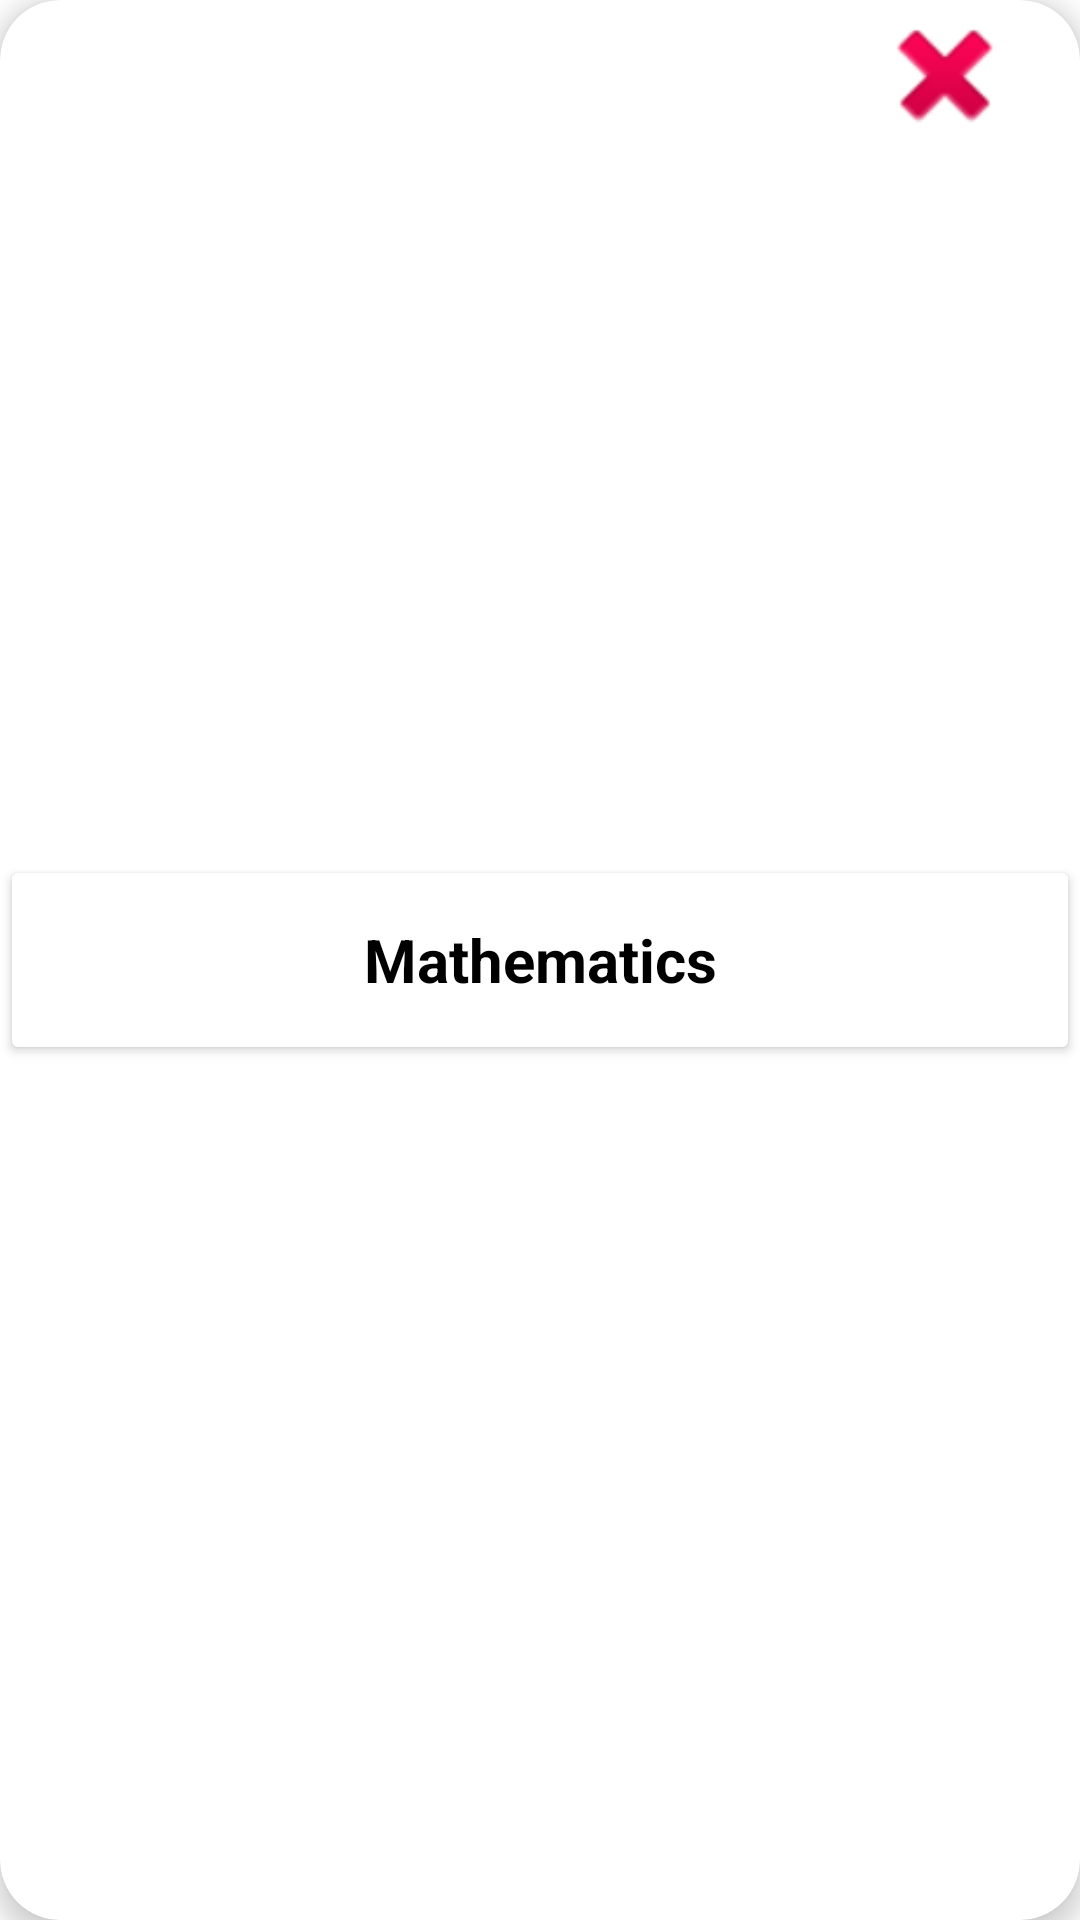

Named icons in this screenshot (1080*1920) and their centers, [x,y]:
delete: [945,76]
